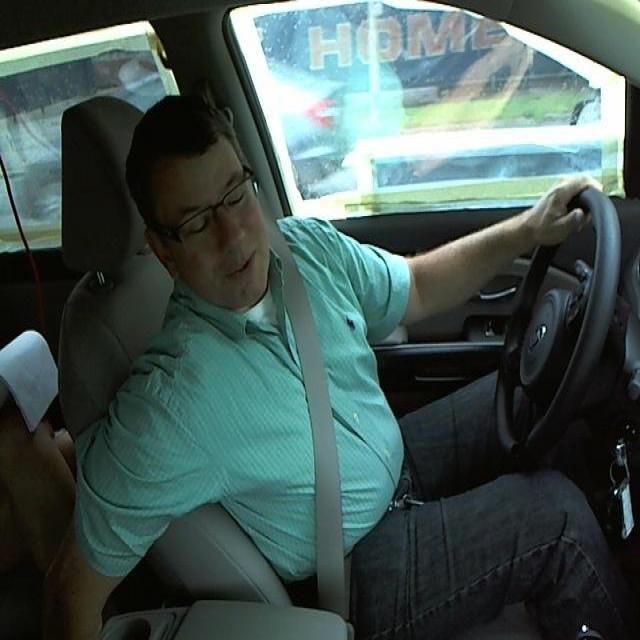seatbelt: (271, 258, 370, 610)
